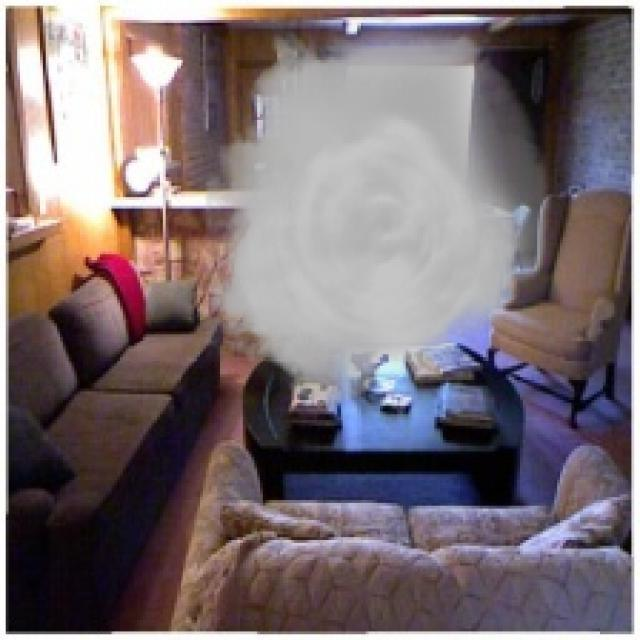Smoke: (206, 14, 552, 420)
